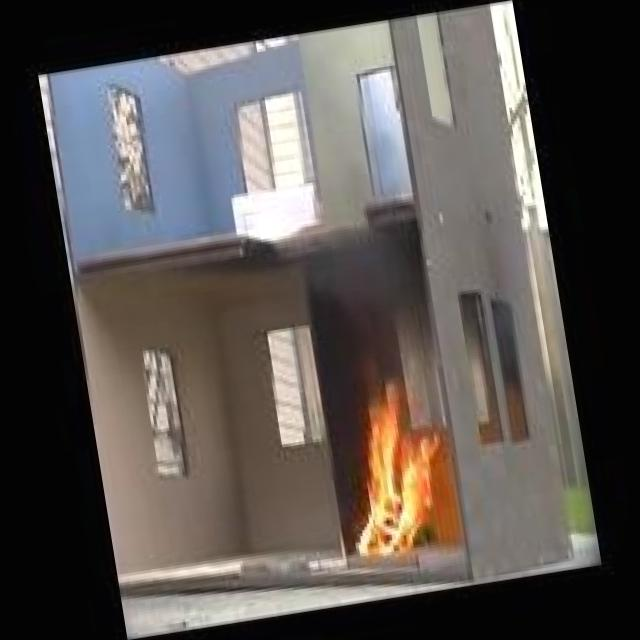fire: (322, 373, 452, 570)
